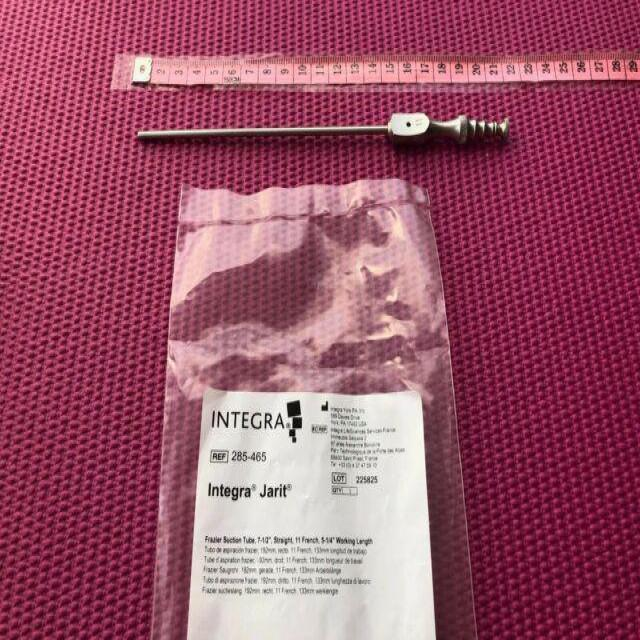Frazier: (131, 104, 513, 151)
